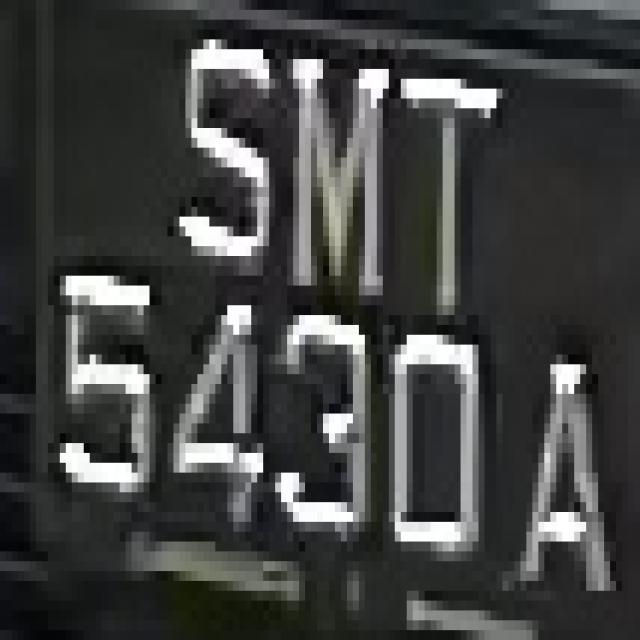0: (377, 286, 490, 561)
3: (263, 256, 377, 551)
4: (156, 266, 275, 532)
5: (48, 236, 161, 542)
A: (491, 306, 622, 610)
M: (269, 10, 407, 354)
S: (156, 0, 293, 286)
T: (383, 30, 502, 305)
